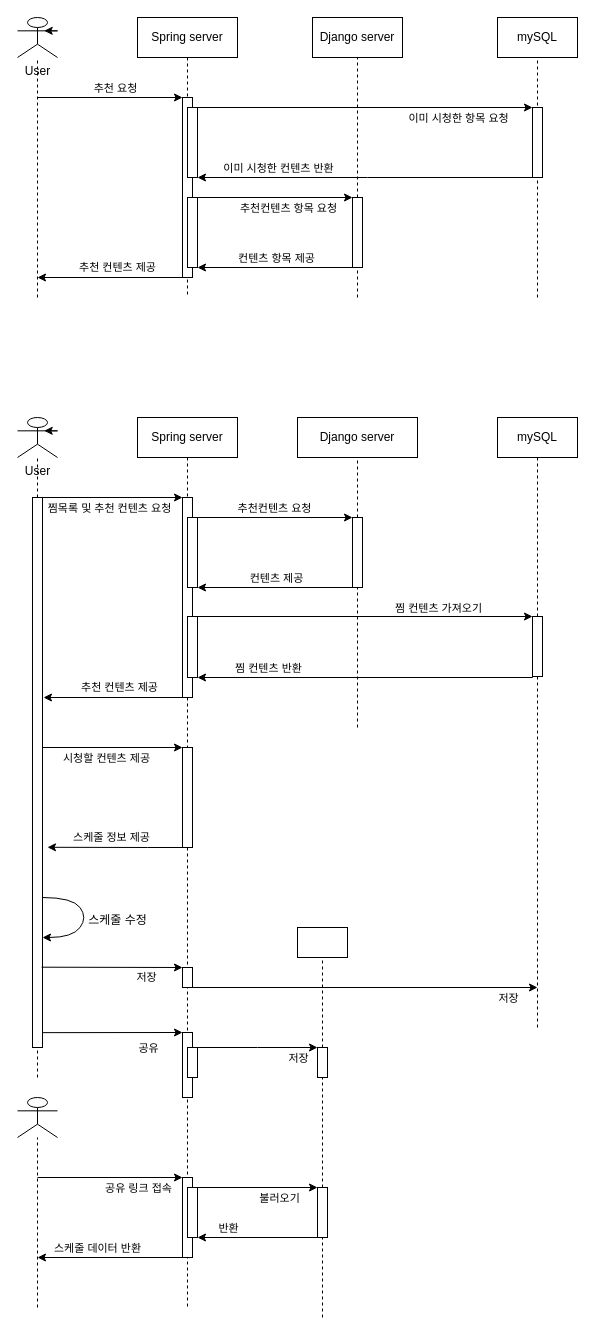
Image size: 595x1336. Some labels were removed from this diagram. The shapes that lost their labels are listed below. From the top down, each one's centre as x and y in pixels, then its label:
At point 322,942: "Redis".
At point 37,1117: "user2".
